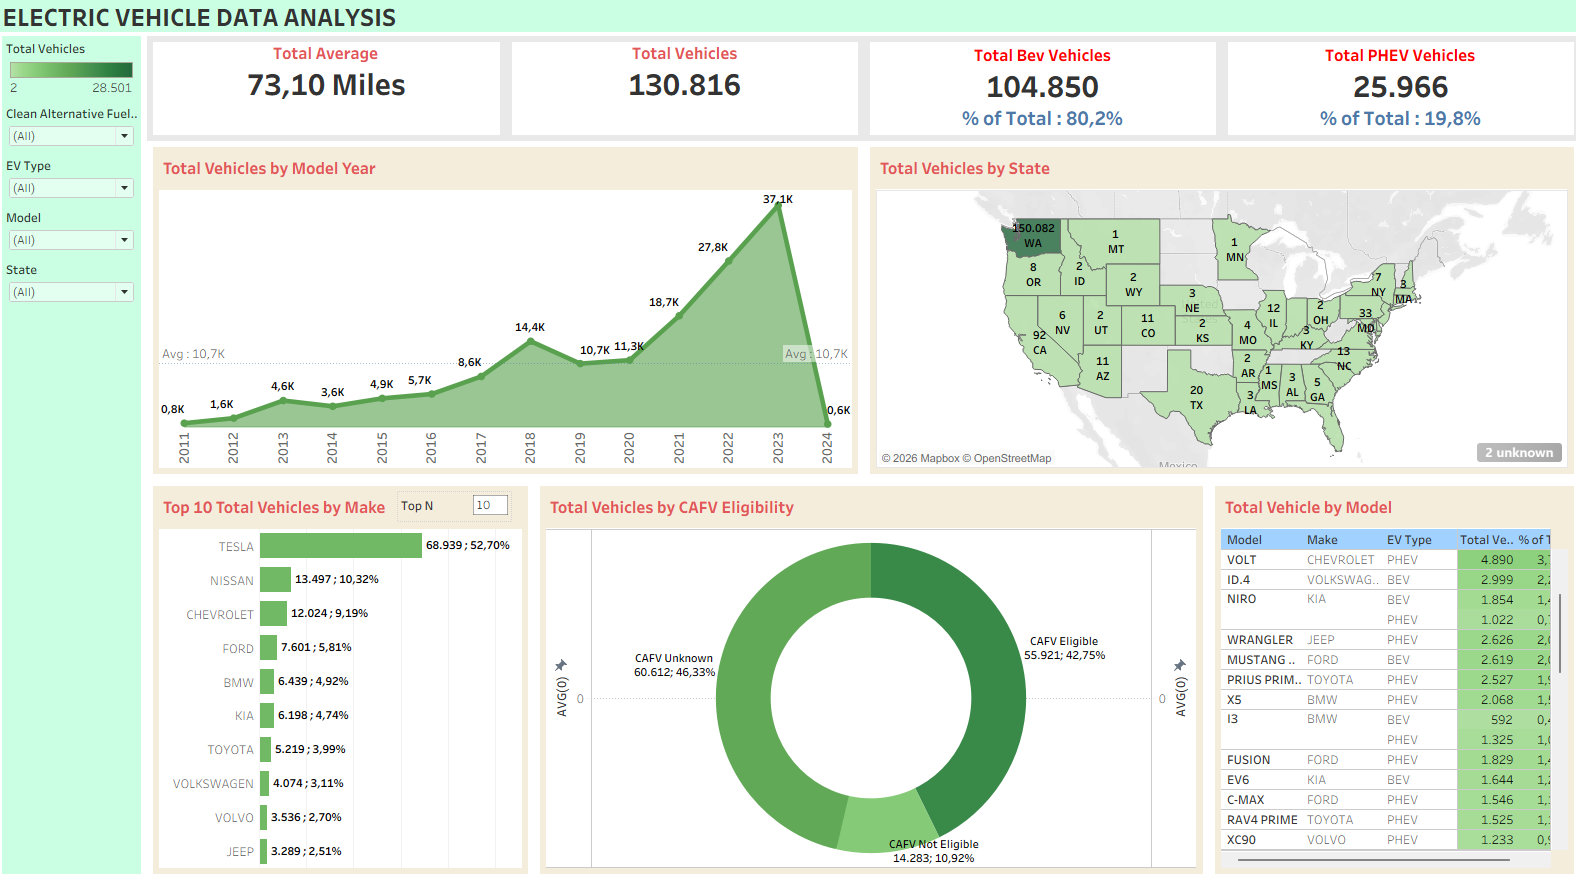

Layout of this report page (visuals, bound fields, positions):
{"tool":"tableau","page":{"name":"Dashboard 1","canvas":[1600,900],"ordinal":0},"visuals":[{"type":"title","box":[8,8,1584,40]},{"type":"legend","title":"Total Vehicle by Model","param":"[federated.0g2svz31oaooxl1gxuf4a11dp90b].[usr:Calculation_1373034944954458113:qk","box":[14,48,138.9,65]},{"type":"worksheet","title":"Avg Electric Range","mark":"Automatic","box":[159,48,359,105]},{"type":"worksheet","title":"Total Vehicles","mark":"Automatic","box":[518,48,358,105]},{"type":"worksheet","title":"Total BEV Vehicles","mark":"Automatic","box":[876,48,358,105]},{"type":"worksheet","title":"Total PHEV Vehicles","mark":"Automatic","box":[1234,48,358,105]},{"type":"filter","title":"Total Vehicles by Model Year","param":"[federated.0g2svz31oaooxl1gxuf4a11dp90b].[none:Clean Alternative Fuel Vehicle (C","box":[14,113,138.9,52]},{"type":"worksheet","title":"Total Vehicles by Model Year","mark":"Area","rows":["Calculation_1373034944954458113","Calculation_1373034944954458113"],"cols":["Model Year"],"box":[158.9,153,717,339]},{"type":"worksheet","title":"Total Vehicles by State","mark":"Multipolygon","box":[875.9,153,716.1,339]},{"type":"filter","title":"Total Vehicles by Model Year","param":"[federated.0g2svz31oaooxl1gxuf4a11dp90b].[none:Electric Vehicle Type:nk]","box":[14,165,138.9,52]},{"type":"filter","title":"Total Vehicles by Model Year","param":"[federated.0g2svz31oaooxl1gxuf4a11dp90b].[none:Model:nk]","box":[14,217,138.9,52]},{"type":"filter","title":"Total Vehicles by Model Year","param":"[federated.0g2svz31oaooxl1gxuf4a11dp90b].[none:State:nk]","box":[14,269,138.9,52]},{"type":"worksheet","title":"Top 10 Total Vehicles by Make","mark":"Automatic","rows":["Make"],"cols":["Calculation_1373034944954458113"],"box":[158.9,492,387,400]},{"type":"worksheet","title":"Total Vehicles by CAFV Eligibility","mark":"Pie","rows":["Calculation_216735742884675587","Calculation_216735742884675587"],"box":[545.9,492,675.1,400]},{"type":"worksheet","title":"Total Vehicle by Model","mark":"Square","rows":["Model","Make","Electric Vehicle Type"],"box":[1221,492,371,400]},{"type":"parameter","param":"[Parameters].[Parameter 1]","box":[409,503,115,31]}]}

Visuals, with their boxes in screenshot pixels (x1, y1, x2, y2), scaled from the page's 1600x900 canvas onto the 1576x875 screenshot:
title: bbox(8, 8, 1568, 47)
"Total Vehicle by Model" legend: bbox(14, 47, 151, 110)
"Avg Electric Range" worksheet: bbox(157, 47, 510, 149)
"Total Vehicles" worksheet: bbox(510, 47, 863, 149)
"Total BEV Vehicles" worksheet: bbox(863, 47, 1215, 149)
"Total PHEV Vehicles" worksheet: bbox(1215, 47, 1568, 149)
"Total Vehicles by Model Year" filter: bbox(14, 110, 151, 160)
"Total Vehicles by Model Year" worksheet (Area marks): bbox(157, 149, 863, 478)
"Total Vehicles by State" worksheet (Multipolygon marks): bbox(863, 149, 1568, 478)
"Total Vehicles by Model Year" filter: bbox(14, 160, 151, 211)
"Total Vehicles by Model Year" filter: bbox(14, 211, 151, 262)
"Total Vehicles by Model Year" filter: bbox(14, 262, 151, 312)
"Top 10 Total Vehicles by Make" worksheet: bbox(157, 478, 538, 867)
"Total Vehicles by CAFV Eligibility" worksheet (Pie marks): bbox(538, 478, 1203, 867)
"Total Vehicle by Model" worksheet (Square marks): bbox(1203, 478, 1568, 867)
parameter: bbox(403, 489, 516, 519)
